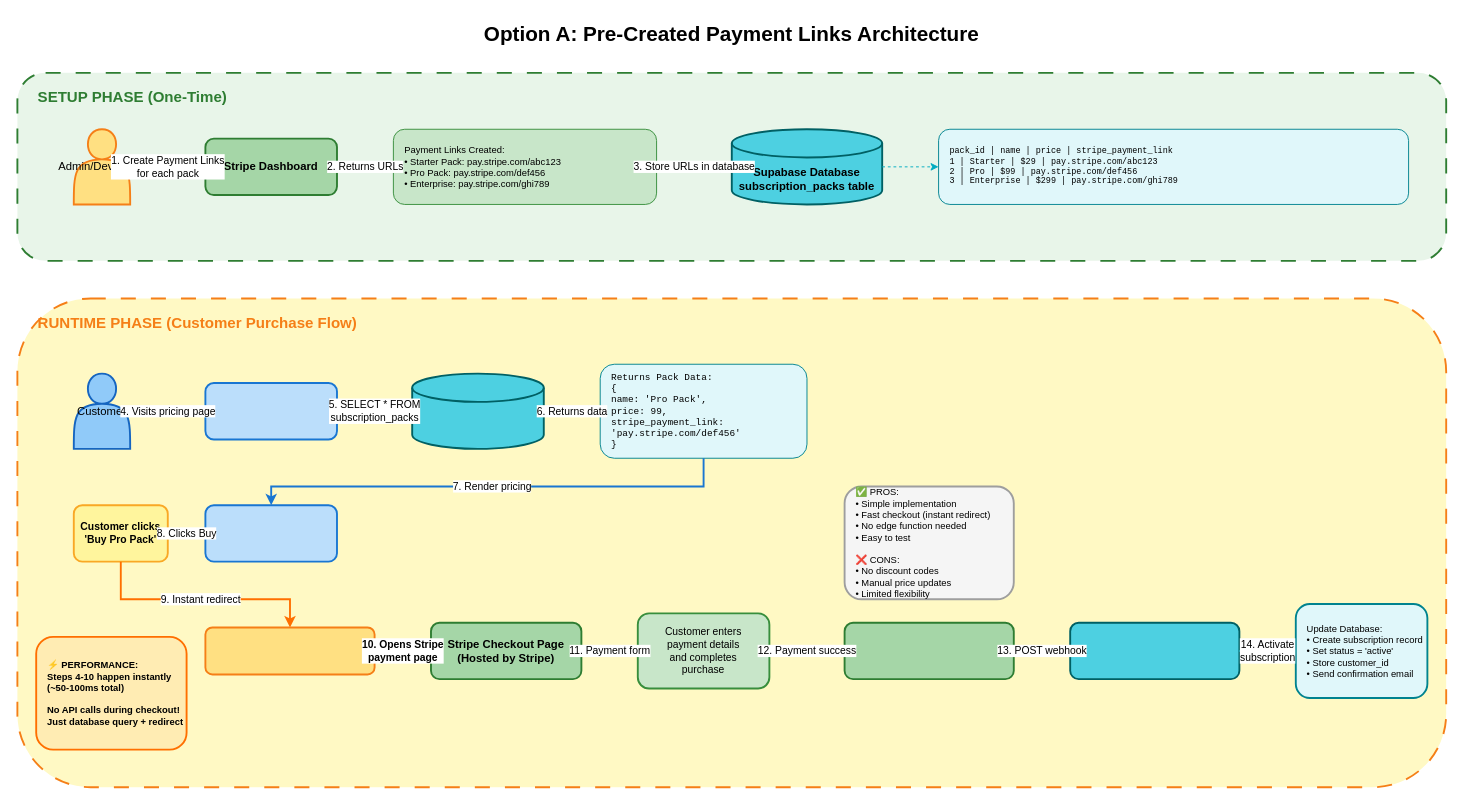
This 1463x804 diagram has some shape labels left out. Each missing label, with the centre of its shape:
"Stripe Webhook checkout.session.completed" belongs at point (928, 650).
"Supabase Database" belongs at point (477, 410).
"Supabase Edge Function stripe-webhook-handler" belongs at point (1154, 650).
"Website (Pricing Page)" belongs at point (270, 411).
"Website displays packs with 'Buy Now' buttons" belongs at point (270, 533).
"window.location.href = pack.stripe_payment_link" belongs at point (289, 650).
